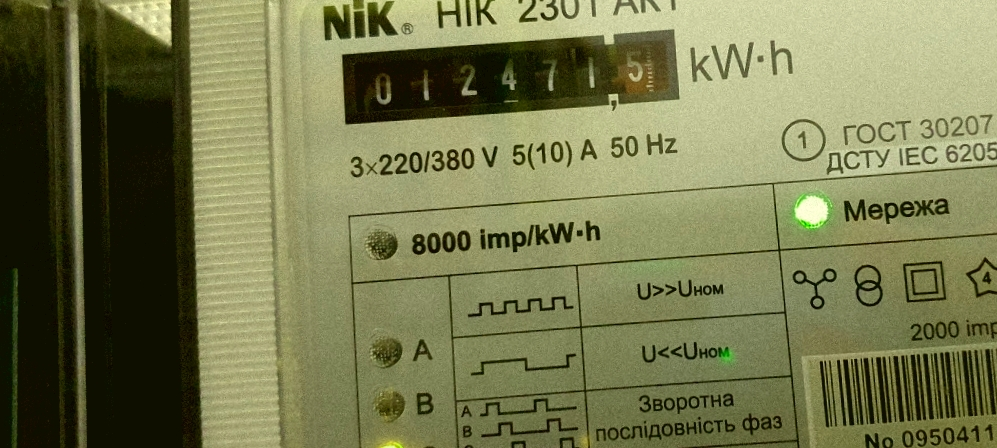0: (369, 69, 394, 106)
1: (418, 66, 432, 102), (583, 53, 596, 90)
2: (457, 61, 479, 98)
4: (498, 55, 518, 93)
5: (623, 45, 646, 84)
7: (537, 54, 560, 94)
screen: (329, 19, 691, 134)
